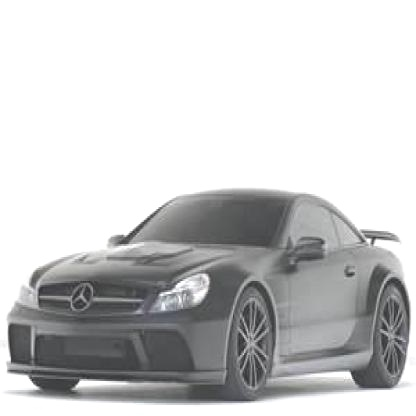Vehicle: (7, 186, 415, 406)
